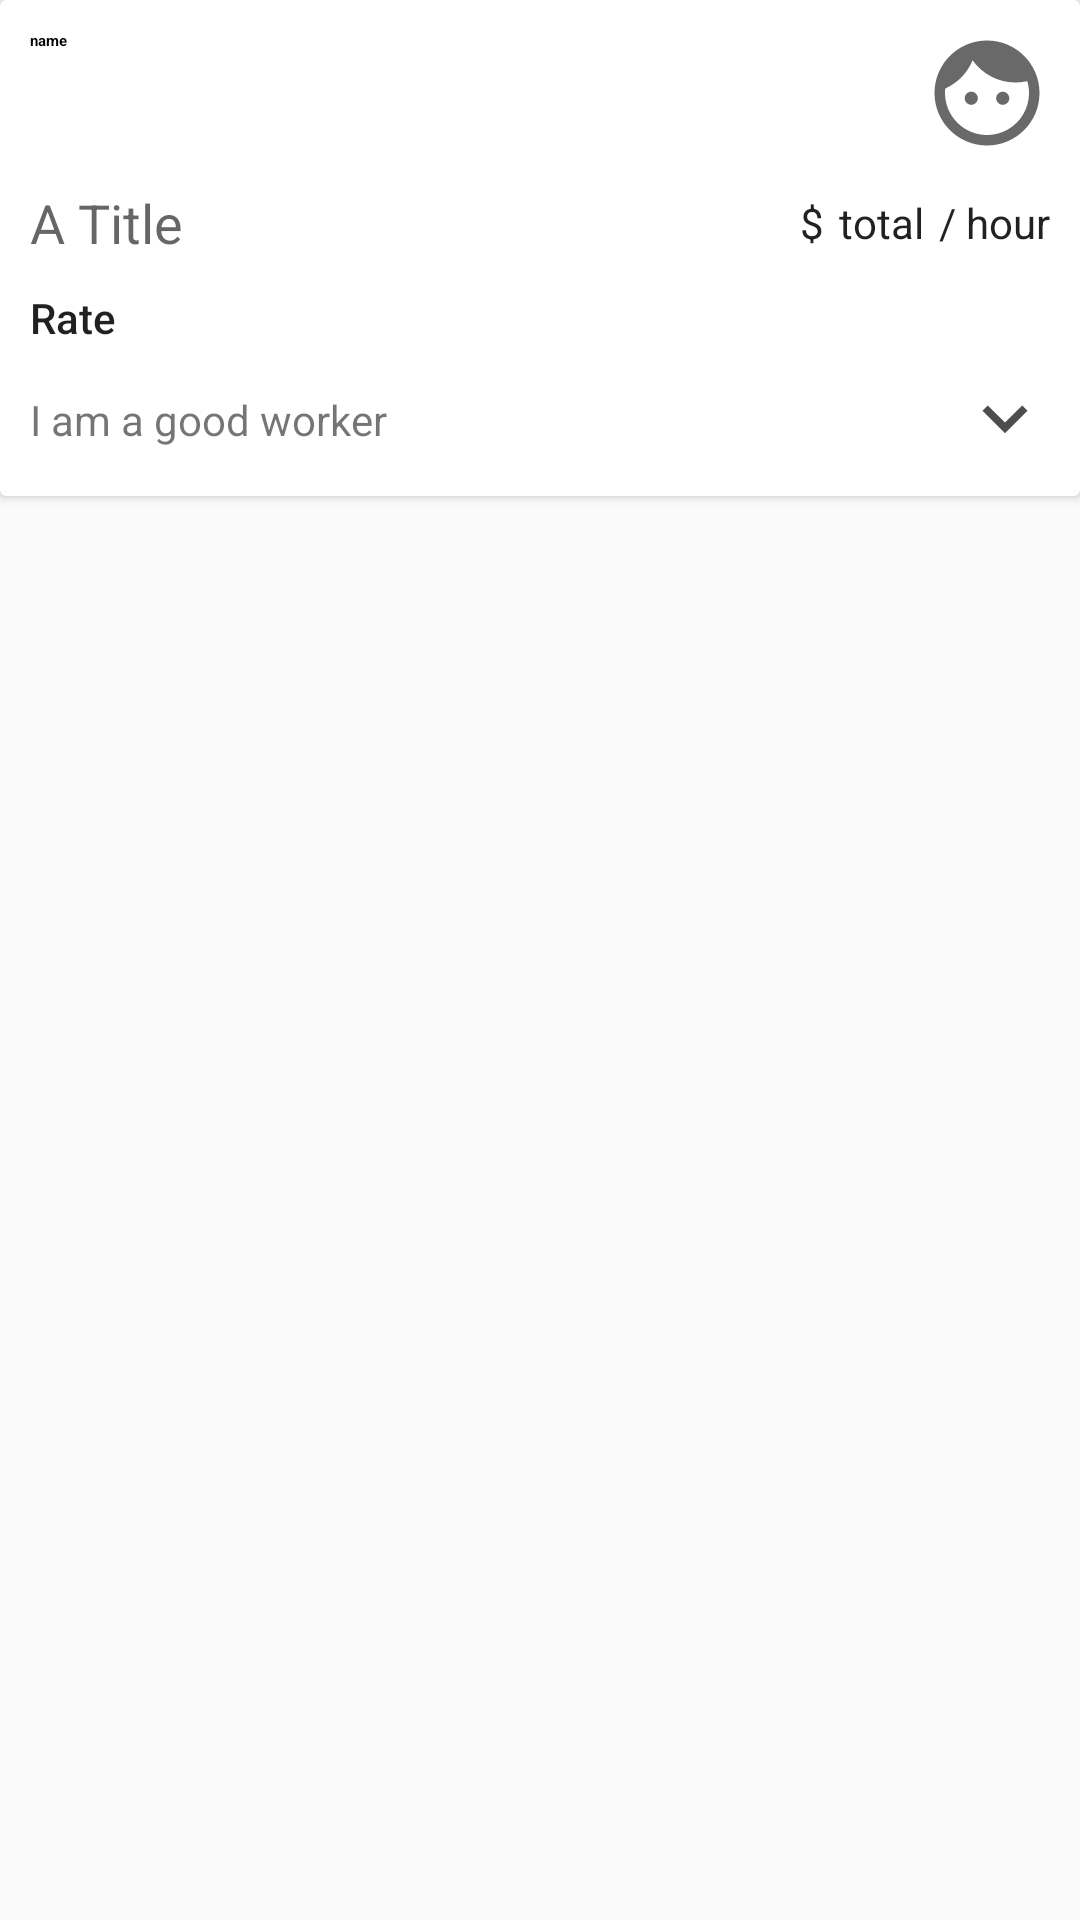

Screen size 1080 × 1920. Icon name, then its box in pixels as rect(x1, y1, x2, y2):
face: rect(934, 40, 1040, 146)
keyboard arrow down: rect(982, 405, 1028, 433)
